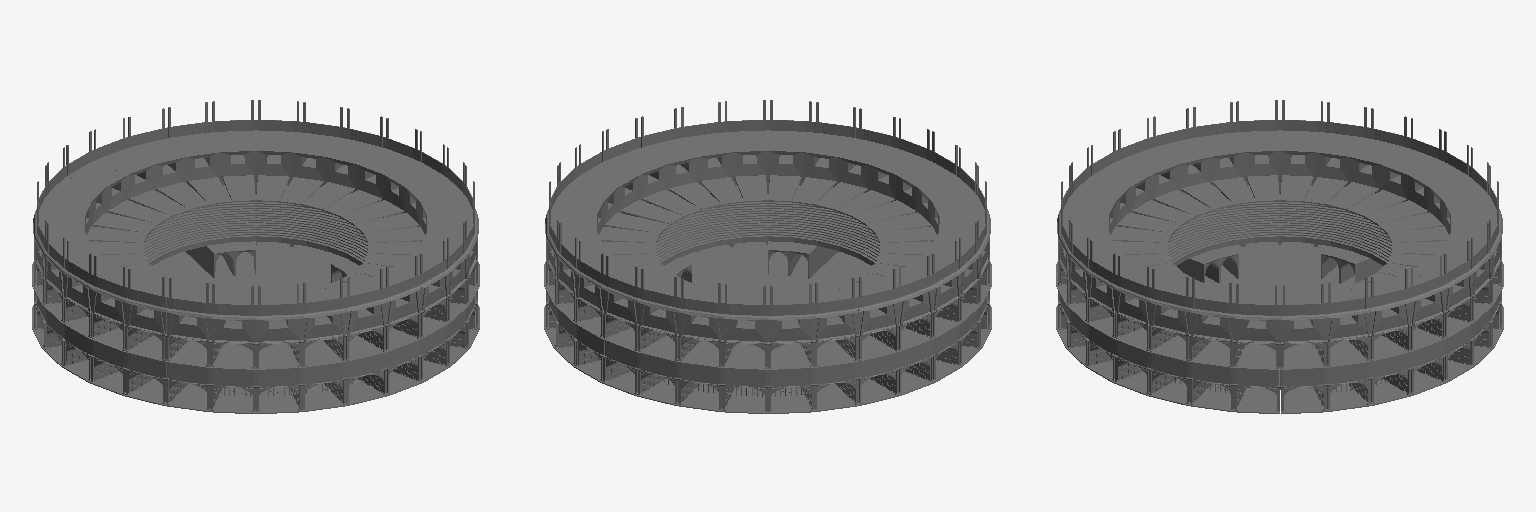
Rendered from colosseum.obj.
3 views of the same model, side by side, from view 1: azimuth 30°, elevation 25°; view 2: azimuth 150°, elevation 25°; view 3: azimuth 270°, elevation 25° (orthographic).
Visible parts, largest first — view 1: colosseum; view 2: colosseum; view 3: colosseum.
Part boxes in pixels (x1,y1,x2,y2): colosseum: (32, 100, 479, 413); colosseum: (544, 100, 991, 413); colosseum: (1056, 100, 1503, 413).
Bounding box in the file's own units: 8.9 × 2.76 × 8.86.